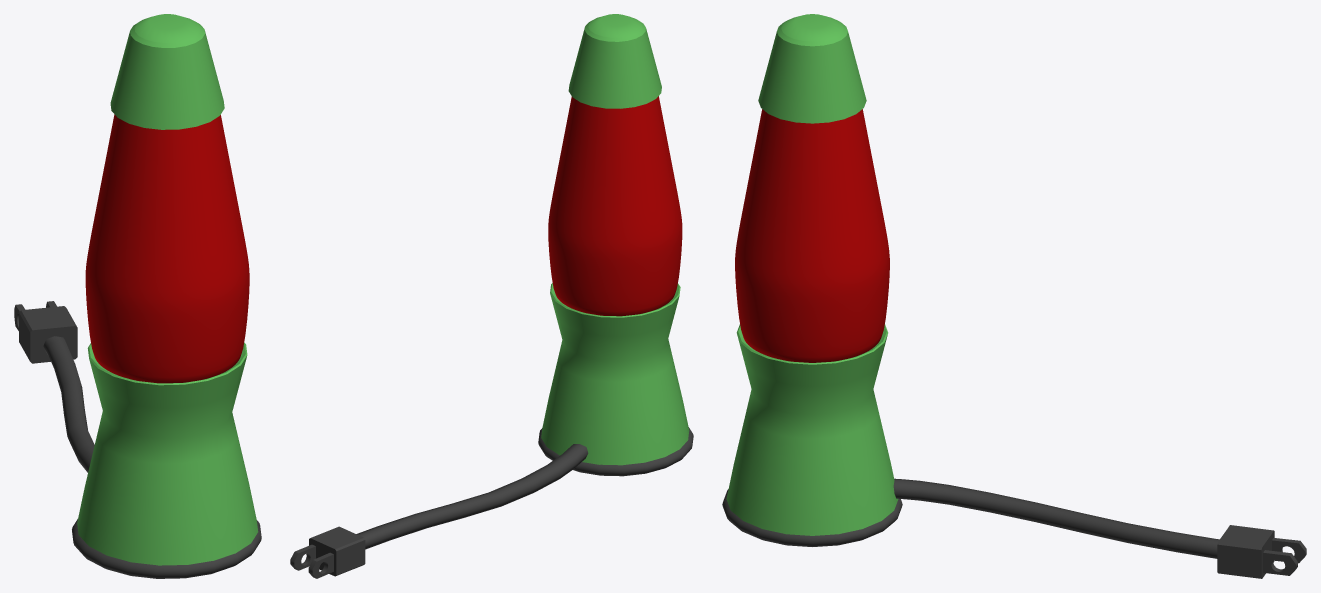
Rendered from Lamp_Lava.fbx.
3 views of the same model, side by side, from view 1: azimuth 30°, elevation 25°; view 2: azimuth 150°, elevation 25°; view 3: azimuth 270°, elevation 25° (orthographic). The views are drawn at different scales.
Parts seen in each view (by area): view 1: glass, base, cap, Cable, rubber_bottom, Plug; view 2: glass, base, cap, Cable, Plug, rubber_bottom; view 3: glass, base, cap, Cable, Plug, rubber_bottom.
Boxes of the visible parts, x1=… form: glass: x1=85, y1=114, x2=249, y2=383; base: x1=77, y1=342, x2=258, y2=565; cap: x1=110, y1=14, x2=224, y2=129; Cable: x1=43, y1=336, x2=94, y2=472; rubber_bottom: x1=72, y1=519, x2=261, y2=578; Plug: x1=14, y1=301, x2=77, y2=363; glass: x1=548, y1=96, x2=682, y2=316; base: x1=541, y1=283, x2=689, y2=465; cap: x1=568, y1=14, x2=661, y2=108; Cable: x1=356, y1=444, x2=588, y2=549; Plug: x1=290, y1=526, x2=365, y2=578; rubber_bottom: x1=538, y1=427, x2=693, y2=476; glass: x1=735, y1=109, x2=889, y2=362; base: x1=726, y1=324, x2=898, y2=535; cap: x1=758, y1=14, x2=866, y2=123; Cable: x1=893, y1=478, x2=1219, y2=558; Plug: x1=1217, y1=525, x2=1306, y2=578; rubber_bottom: x1=722, y1=489, x2=902, y2=546.
Bounding box in the file's own units: 83.86 × 187 × 200.
